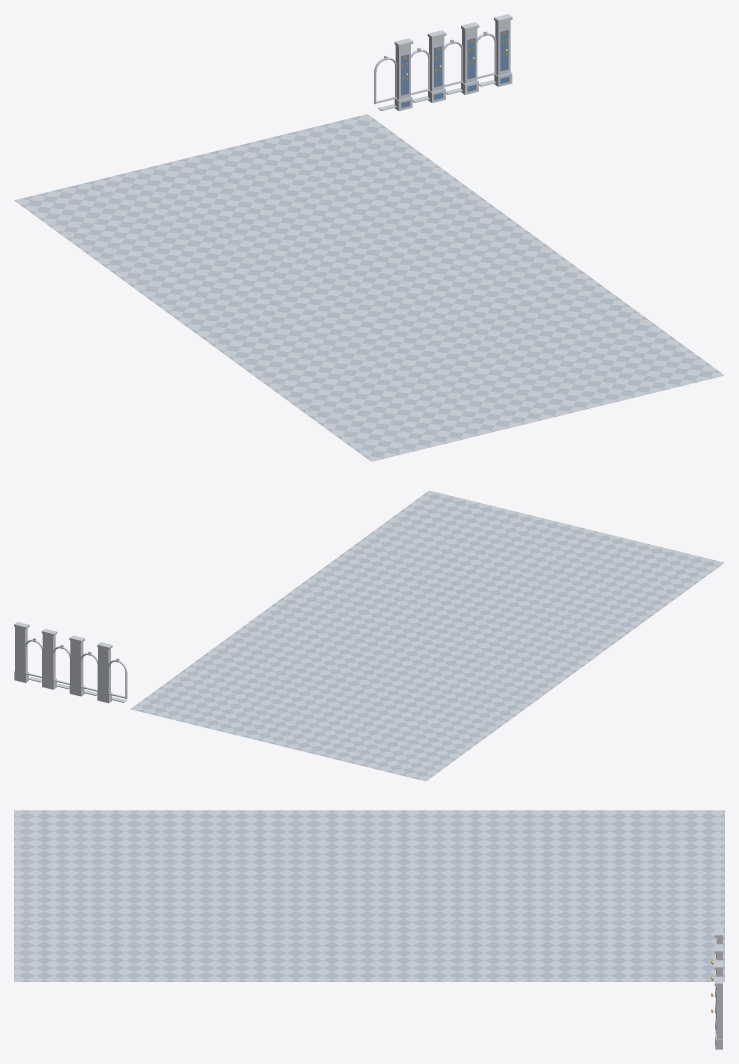
File: KRM_STATIC_022.fbx
The picture shows the model from 3 angles, top to bottom: view 1: azimuth 30°, elevation 25°; view 2: azimuth 150°, elevation 25°; view 3: azimuth 270°, elevation 25°; orthographic projection. The views are drawn at different scales.
Parts seen in each view (by area): view 1: KRM_STATIC_022; view 2: KRM_STATIC_022; view 3: KRM_STATIC_022.
Part boxes in pixels (<box>): KRM_STATIC_022: <box>14,14,724,461</box>; KRM_STATIC_022: <box>14,490,724,781</box>; KRM_STATIC_022: <box>14,810,724,1049</box>.
Bounding box in the file's own units: 4465 × 576 × 5600.
Materials: 1 (1 with a texture image).
